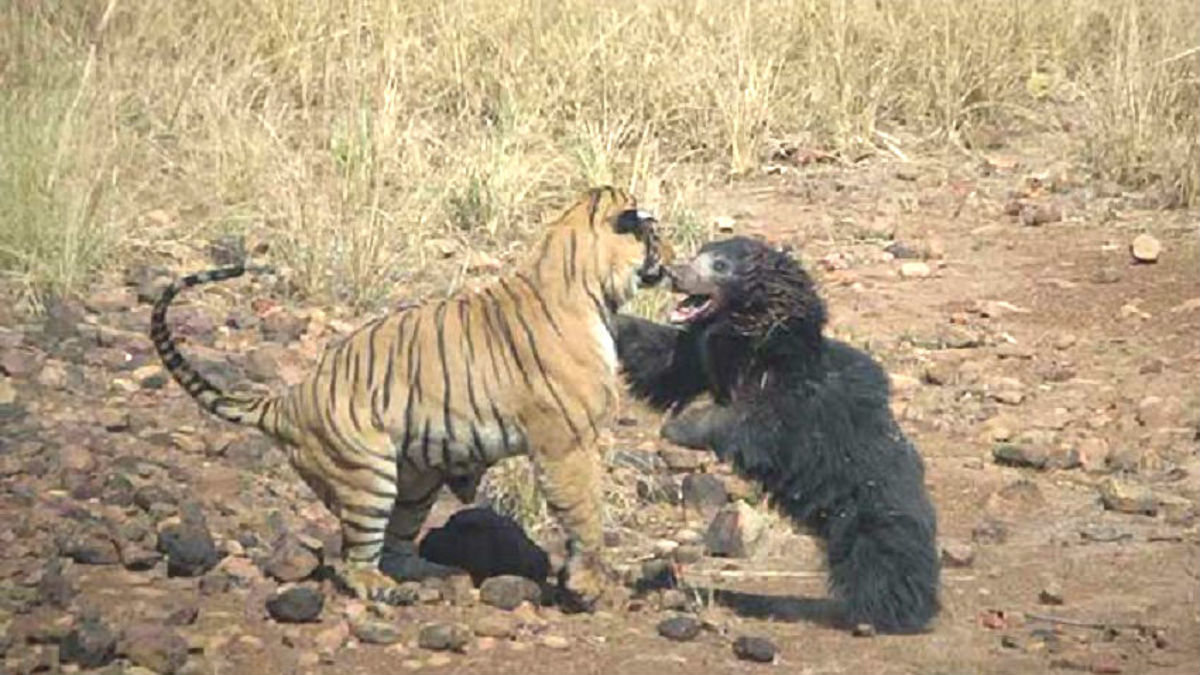bear: (622, 221, 949, 626)
tiger: (147, 179, 690, 604)
